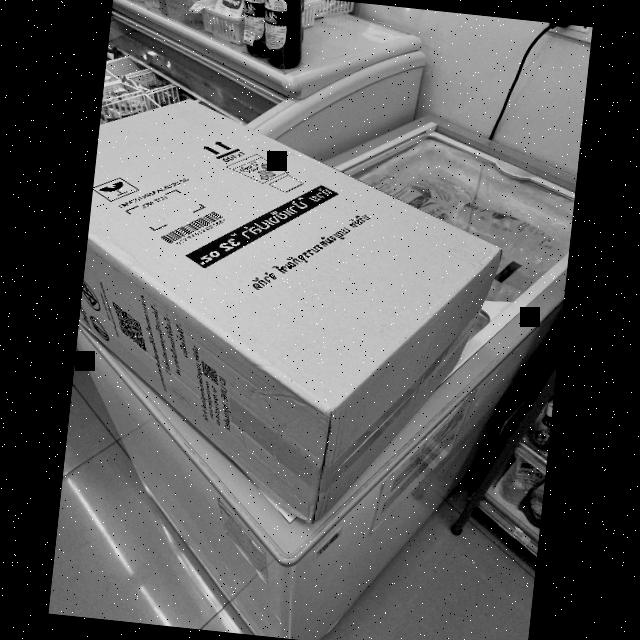cardboard_box: (76, 84, 491, 537)
